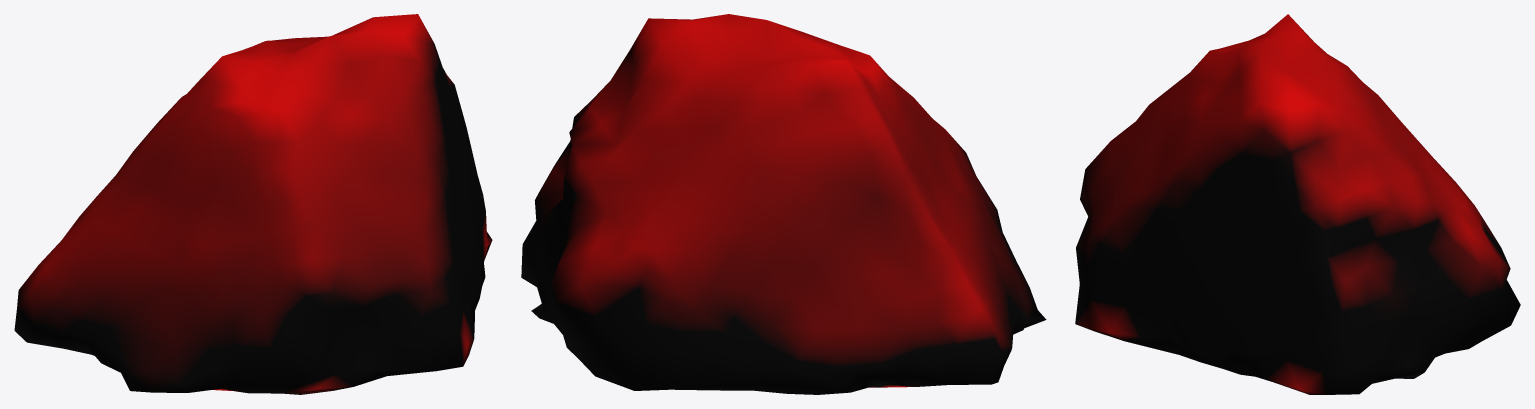
The model's file is rock_c.glb.
The picture shows the model from 3 angles, left to right: view 1: azimuth 30°, elevation 25°; view 2: azimuth 150°, elevation 25°; view 3: azimuth 270°, elevation 25°; orthographic projection. The views are drawn at different scales.
Parts seen in each view (by area): view 1: rock_c_LOD0; view 2: rock_c_LOD0; view 3: rock_c_LOD0.
Part boxes in pixels (x1,y1,x2,y2): rock_c_LOD0: [14, 14, 492, 394]; rock_c_LOD0: [521, 14, 1046, 394]; rock_c_LOD0: [1075, 14, 1520, 394].
Size of what is drawn, in the model's own units: 1.87 by 1.02 by 1.6.
